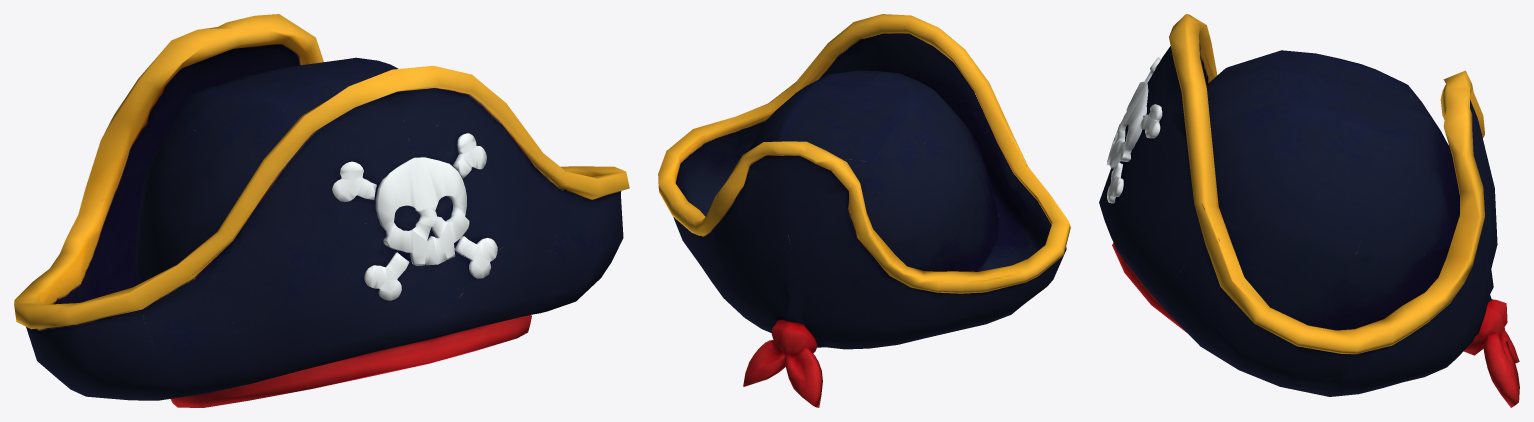
File: pirate_hat.glb
3 views of the same model, side by side, from view 1: azimuth 30°, elevation 25°; view 2: azimuth 150°, elevation 25°; view 3: azimuth 270°, elevation 25° (orthographic). The views are drawn at different scales.
Parts seen in each view (by area): view 1: geometry_0; view 2: geometry_0; view 3: geometry_0.
Part boxes in pixels (bbox=[...]): geometry_0: bbox=[14, 14, 629, 407]; geometry_0: bbox=[658, 14, 1070, 407]; geometry_0: bbox=[1099, 14, 1519, 407].
Bounding box in the file's own units: 0.9497 × 0.6626 × 0.6973.
1 material, 1 textured.
